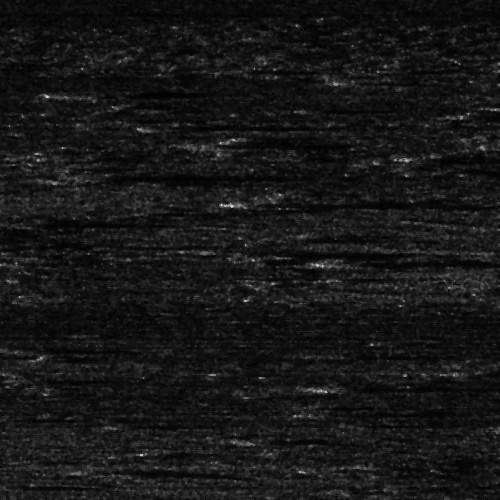object: (22, 167, 167, 184), (161, 134, 276, 151), (21, 87, 114, 98), (286, 257, 379, 266), (297, 382, 380, 391), (106, 121, 179, 128), (437, 110, 500, 117), (209, 66, 262, 71), (225, 199, 266, 204), (0, 345, 33, 350), (0, 220, 23, 225)
shadow: (94, 167, 341, 184), (219, 134, 344, 151), (67, 87, 226, 98), (332, 257, 500, 266), (338, 382, 500, 391), (143, 121, 307, 128), (246, 199, 467, 204), (8, 220, 167, 225), (0, 345, 118, 350), (236, 66, 319, 71), (474, 110, 500, 117)
